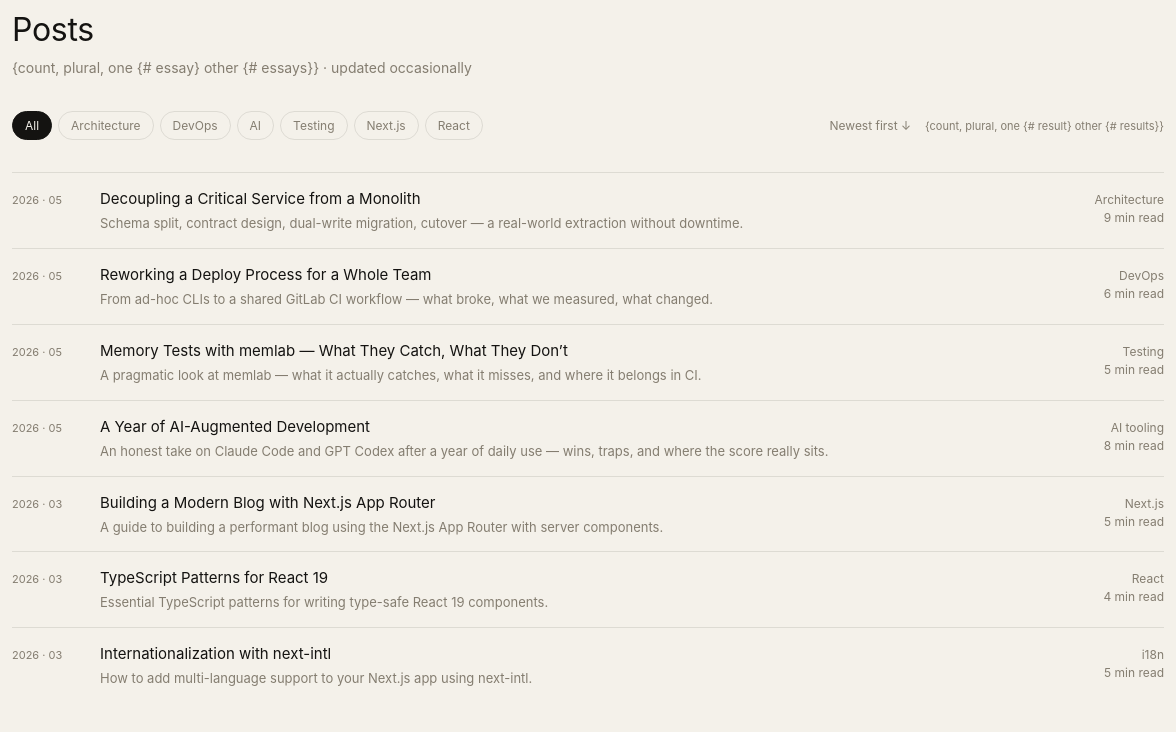
it: Posts page › filters by topic and shows the empty state when nothing matches
Click the button "React".
click(454, 126)  # box [425,111,483,140]
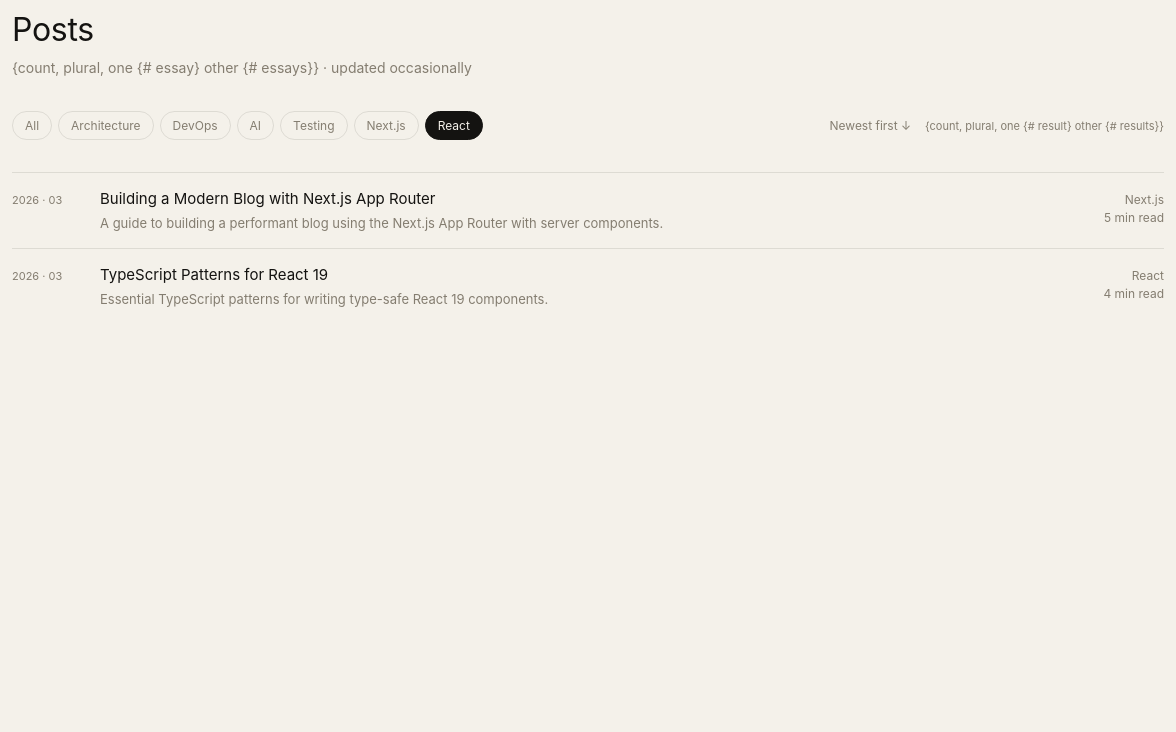
Expected: the 1st link is shown, [12,172,1164,248]
Expected: the button "React" is pressed, [425,111,483,140]
Click the button "All".
click(32, 126)  # box [12,111,52,140]
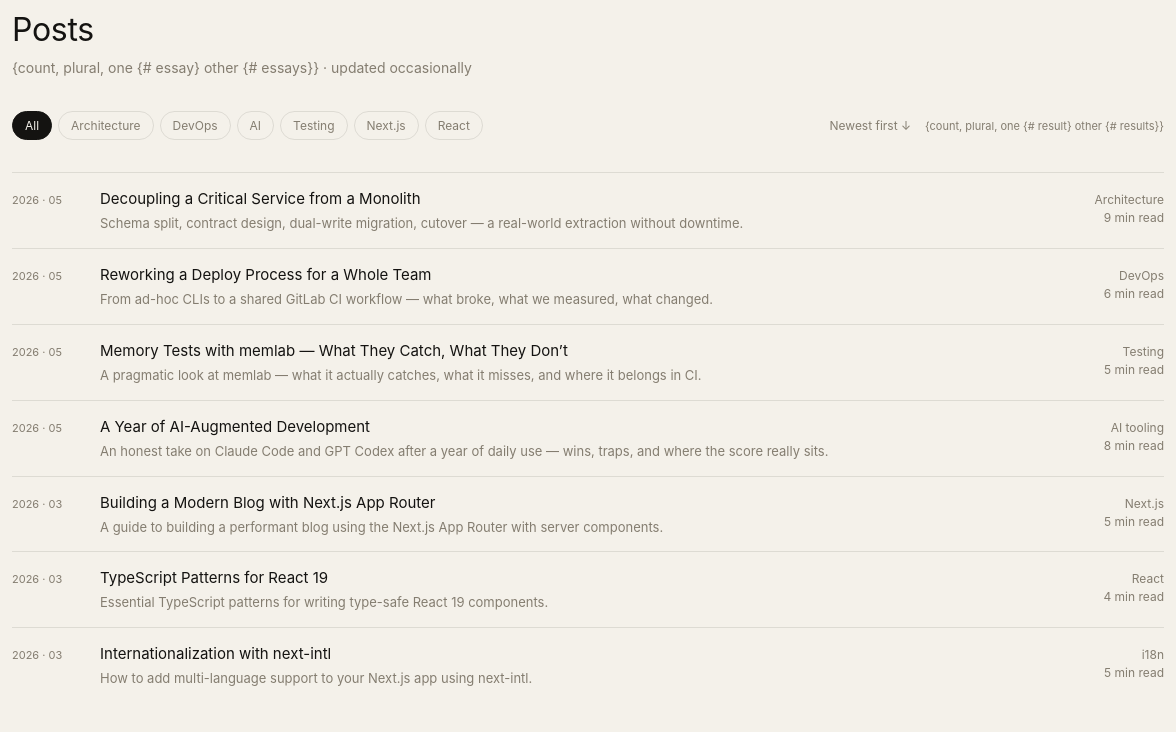
Expected: the number of links is 7
